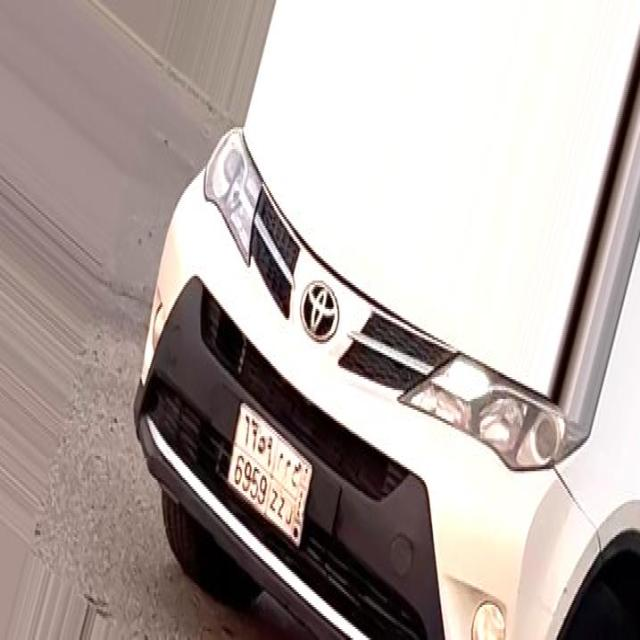Car-plate: (219, 384, 320, 562)
